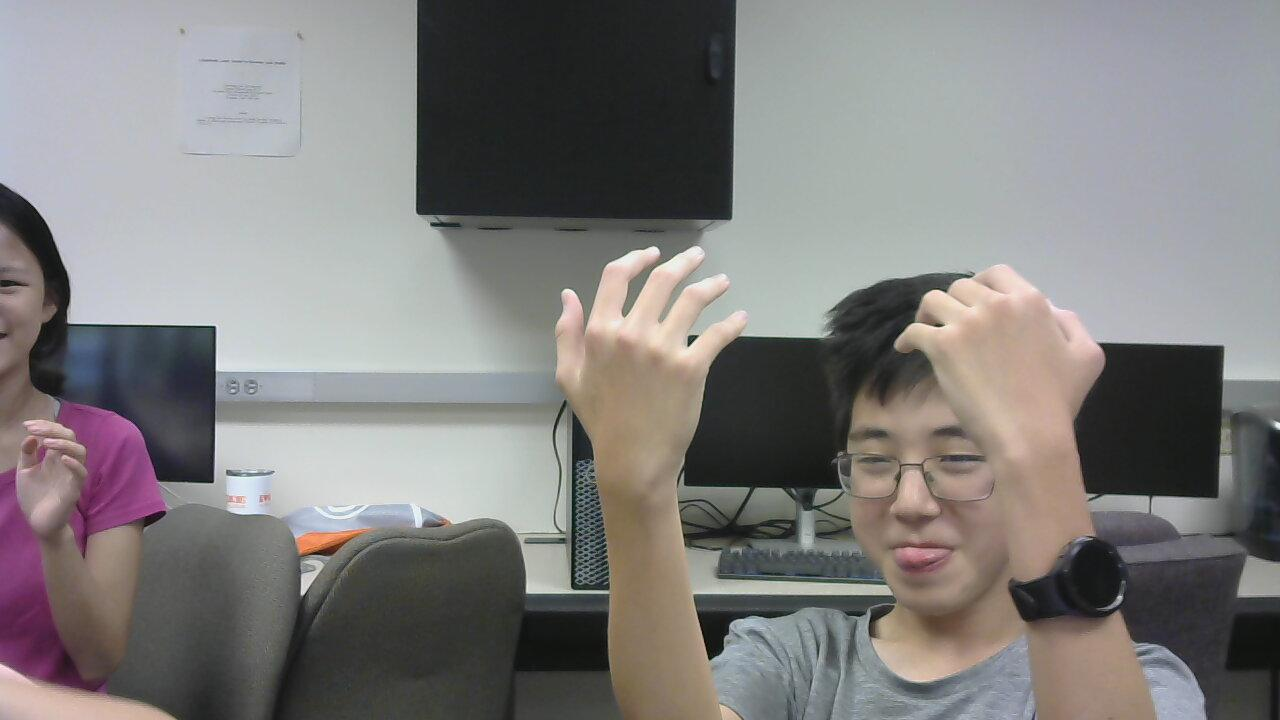hands: (528, 229, 754, 500), (897, 233, 1117, 464), (7, 406, 94, 536)
